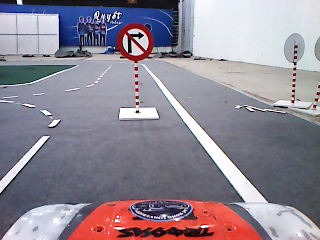ban: (116, 21, 154, 63)
